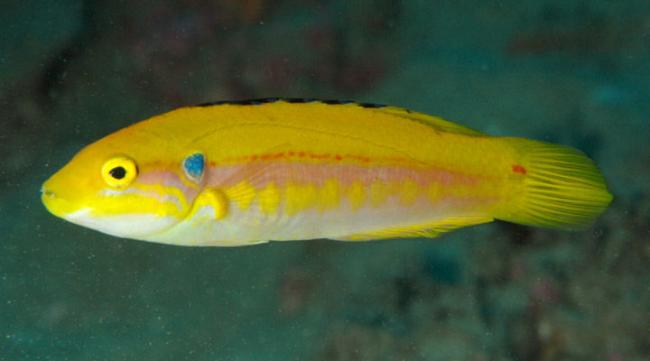fish: (39, 98, 612, 248)
